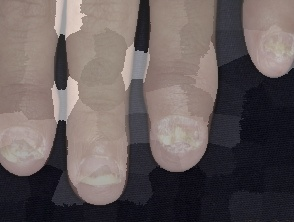Nail_psoriasis: (68, 141, 136, 198), (0, 122, 55, 171), (152, 111, 207, 159), (254, 20, 294, 67)
